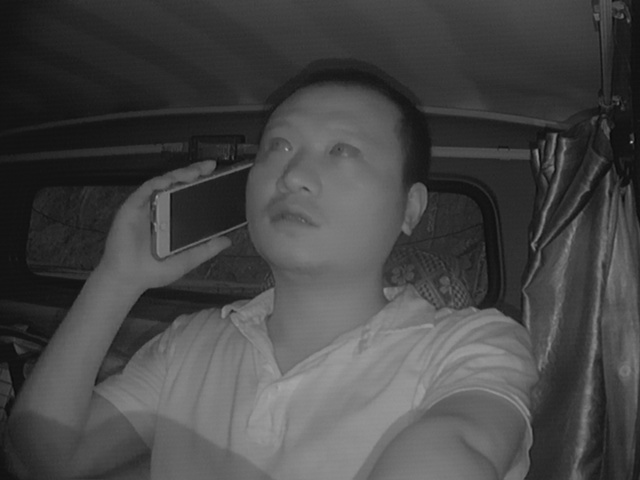hand: (121, 161, 230, 281)
